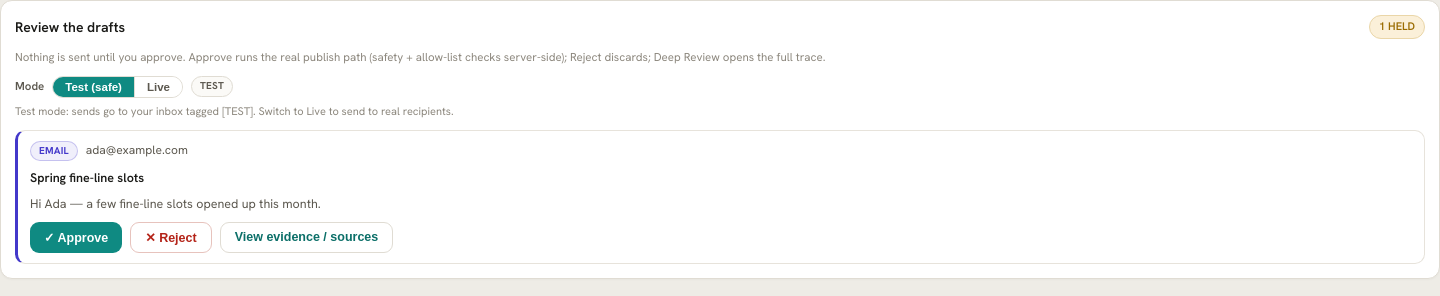
Scenario: StagedDraftsReview › Approve routes the existing approve mutation and flips the card
Click the button with aria-label "Approve and publish". click: (76, 237)
box: [30, 222, 122, 253]
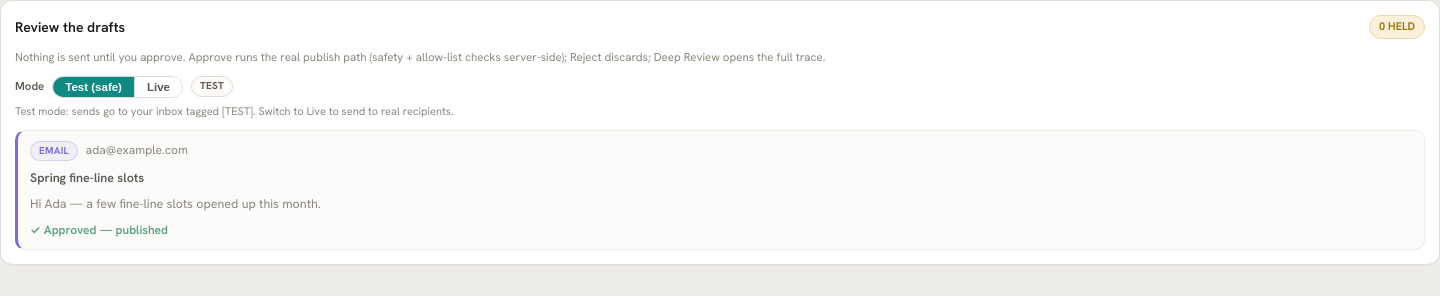
Expected: the text "✓ Approved — published" is shown, [30, 222, 168, 238]
